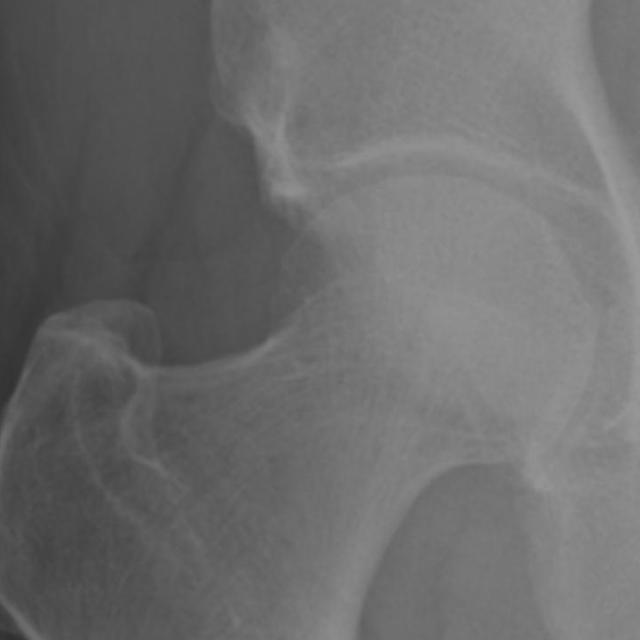Fitted_femural_head: (311, 172, 432, 311)
